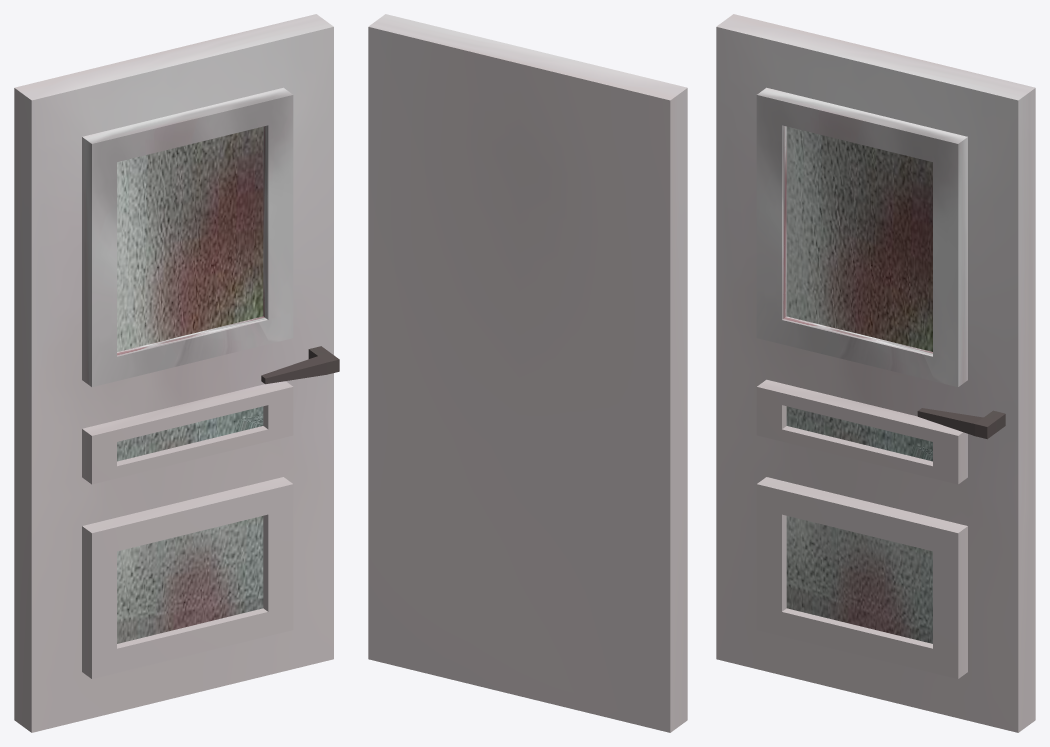
Rendered from Puerta_15.fbx.
3 views of the same model, side by side, from view 1: azimuth 30°, elevation 25°; view 2: azimuth 150°, elevation 25°; view 3: azimuth 330°, elevation 25° (orthographic).
Parts seen in each view (by area): view 1: Cube.013; view 2: Cube.013; view 3: Cube.013.
Boxes of the visible parts, box(x1,y1,x2,y2) form: Cube.013: box(14, 14, 339, 732); Cube.013: box(368, 14, 687, 732); Cube.013: box(716, 14, 1035, 732).
Bounding box in the file's own units: 200 × 400 × 41.01.
